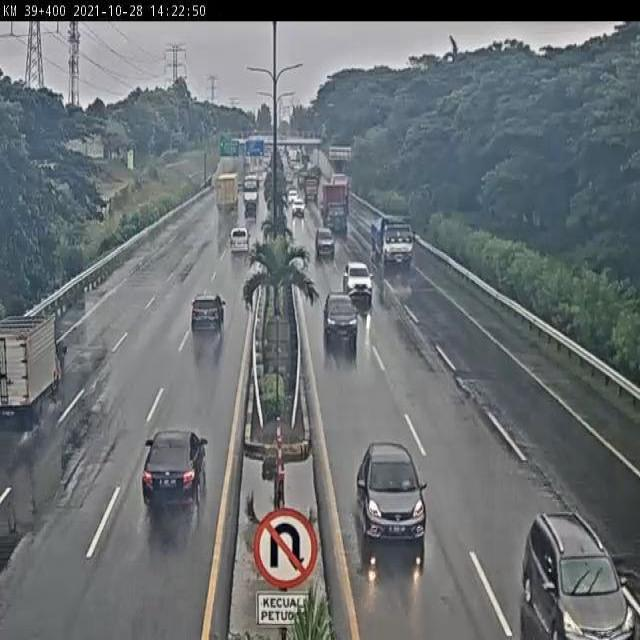car: (143, 432, 207, 511)
truck-l-: (371, 215, 419, 273)
truck-m-: (0, 316, 69, 429)
